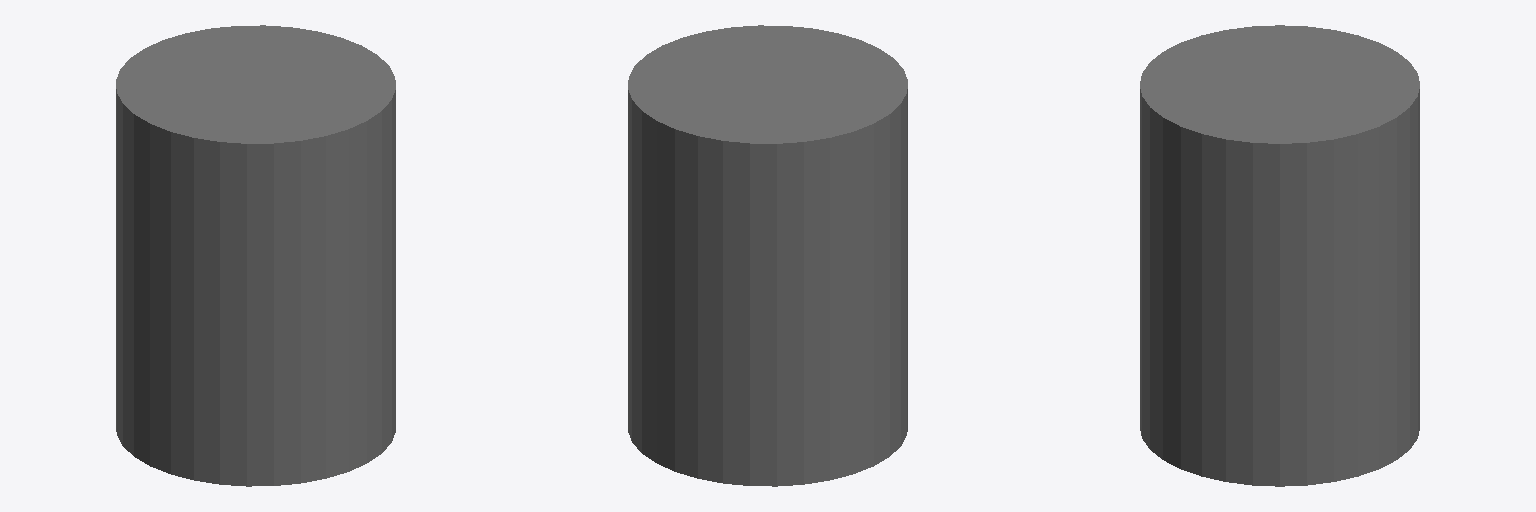
The model's file is folgers_classic_roast_coffee_00000.obj.
The picture shows the model from 3 angles: view 1: azimuth 30°, elevation 25°; view 2: azimuth 150°, elevation 25°; view 3: azimuth 270°, elevation 25°; orthographic projection.
Bounding box in the file's own units: 0.104 × 0.14 × 0.104.